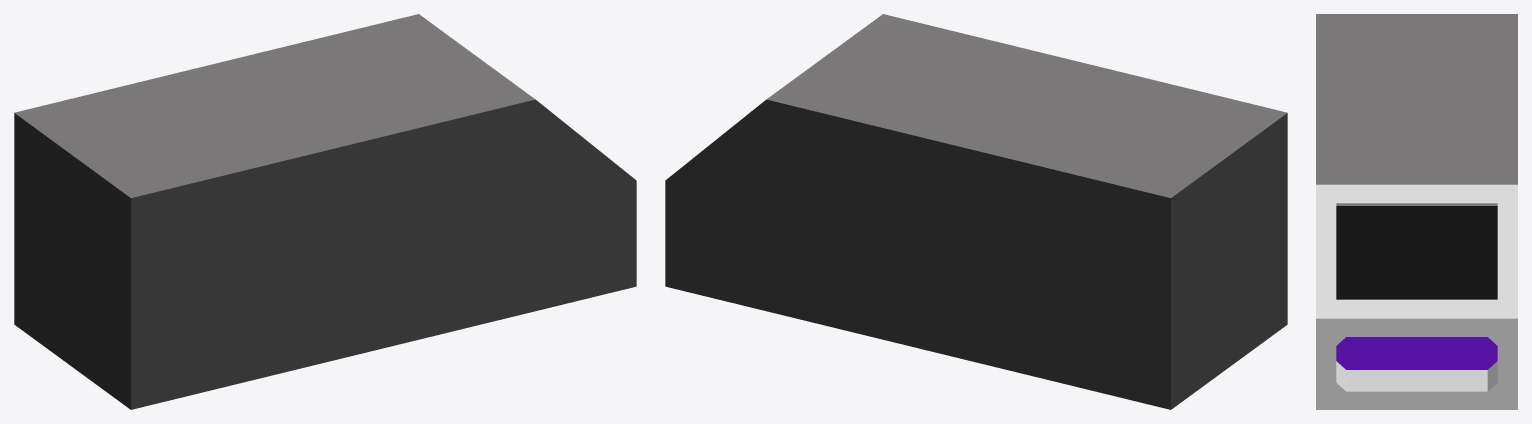
The model's file is PlatformBorder00b_1.fbx.
3 renders of one model, left to right at view 1: azimuth 30°, elevation 25°; view 2: azimuth 150°, elevation 25°; view 3: azimuth 270°, elevation 25°, orthographic. The views are drawn at different scales.
Parts seen in each view (by area): view 1: PlatformBorder00b_1; view 2: PlatformBorder00b_1; view 3: PlatformBorder00b_1.
Boxes of the visible parts, box(x1,y1,x2,y2) form: PlatformBorder00b_1: box(14, 14, 636, 409); PlatformBorder00b_1: box(665, 14, 1287, 409); PlatformBorder00b_1: box(1316, 14, 1517, 409).
Size of the model in its own units: 250 by 100 by 100.
